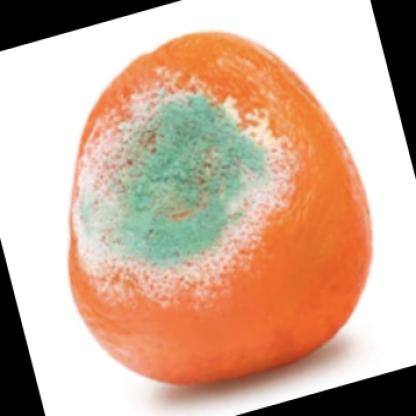rotten: (67, 31, 376, 384)
